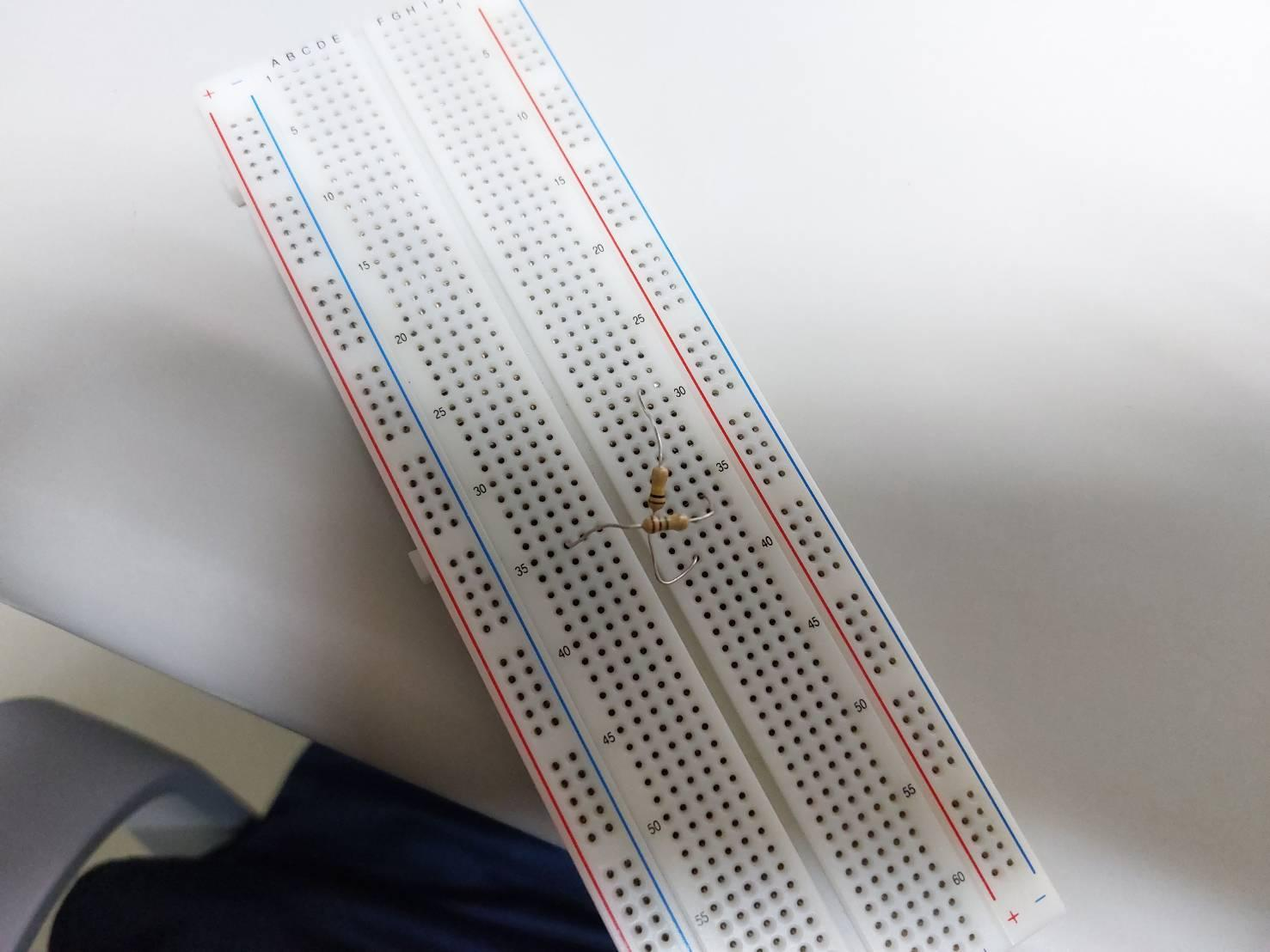resistor: (638, 515, 689, 535), (650, 464, 668, 512)
